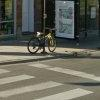Bicycle: (20, 24, 63, 57)
